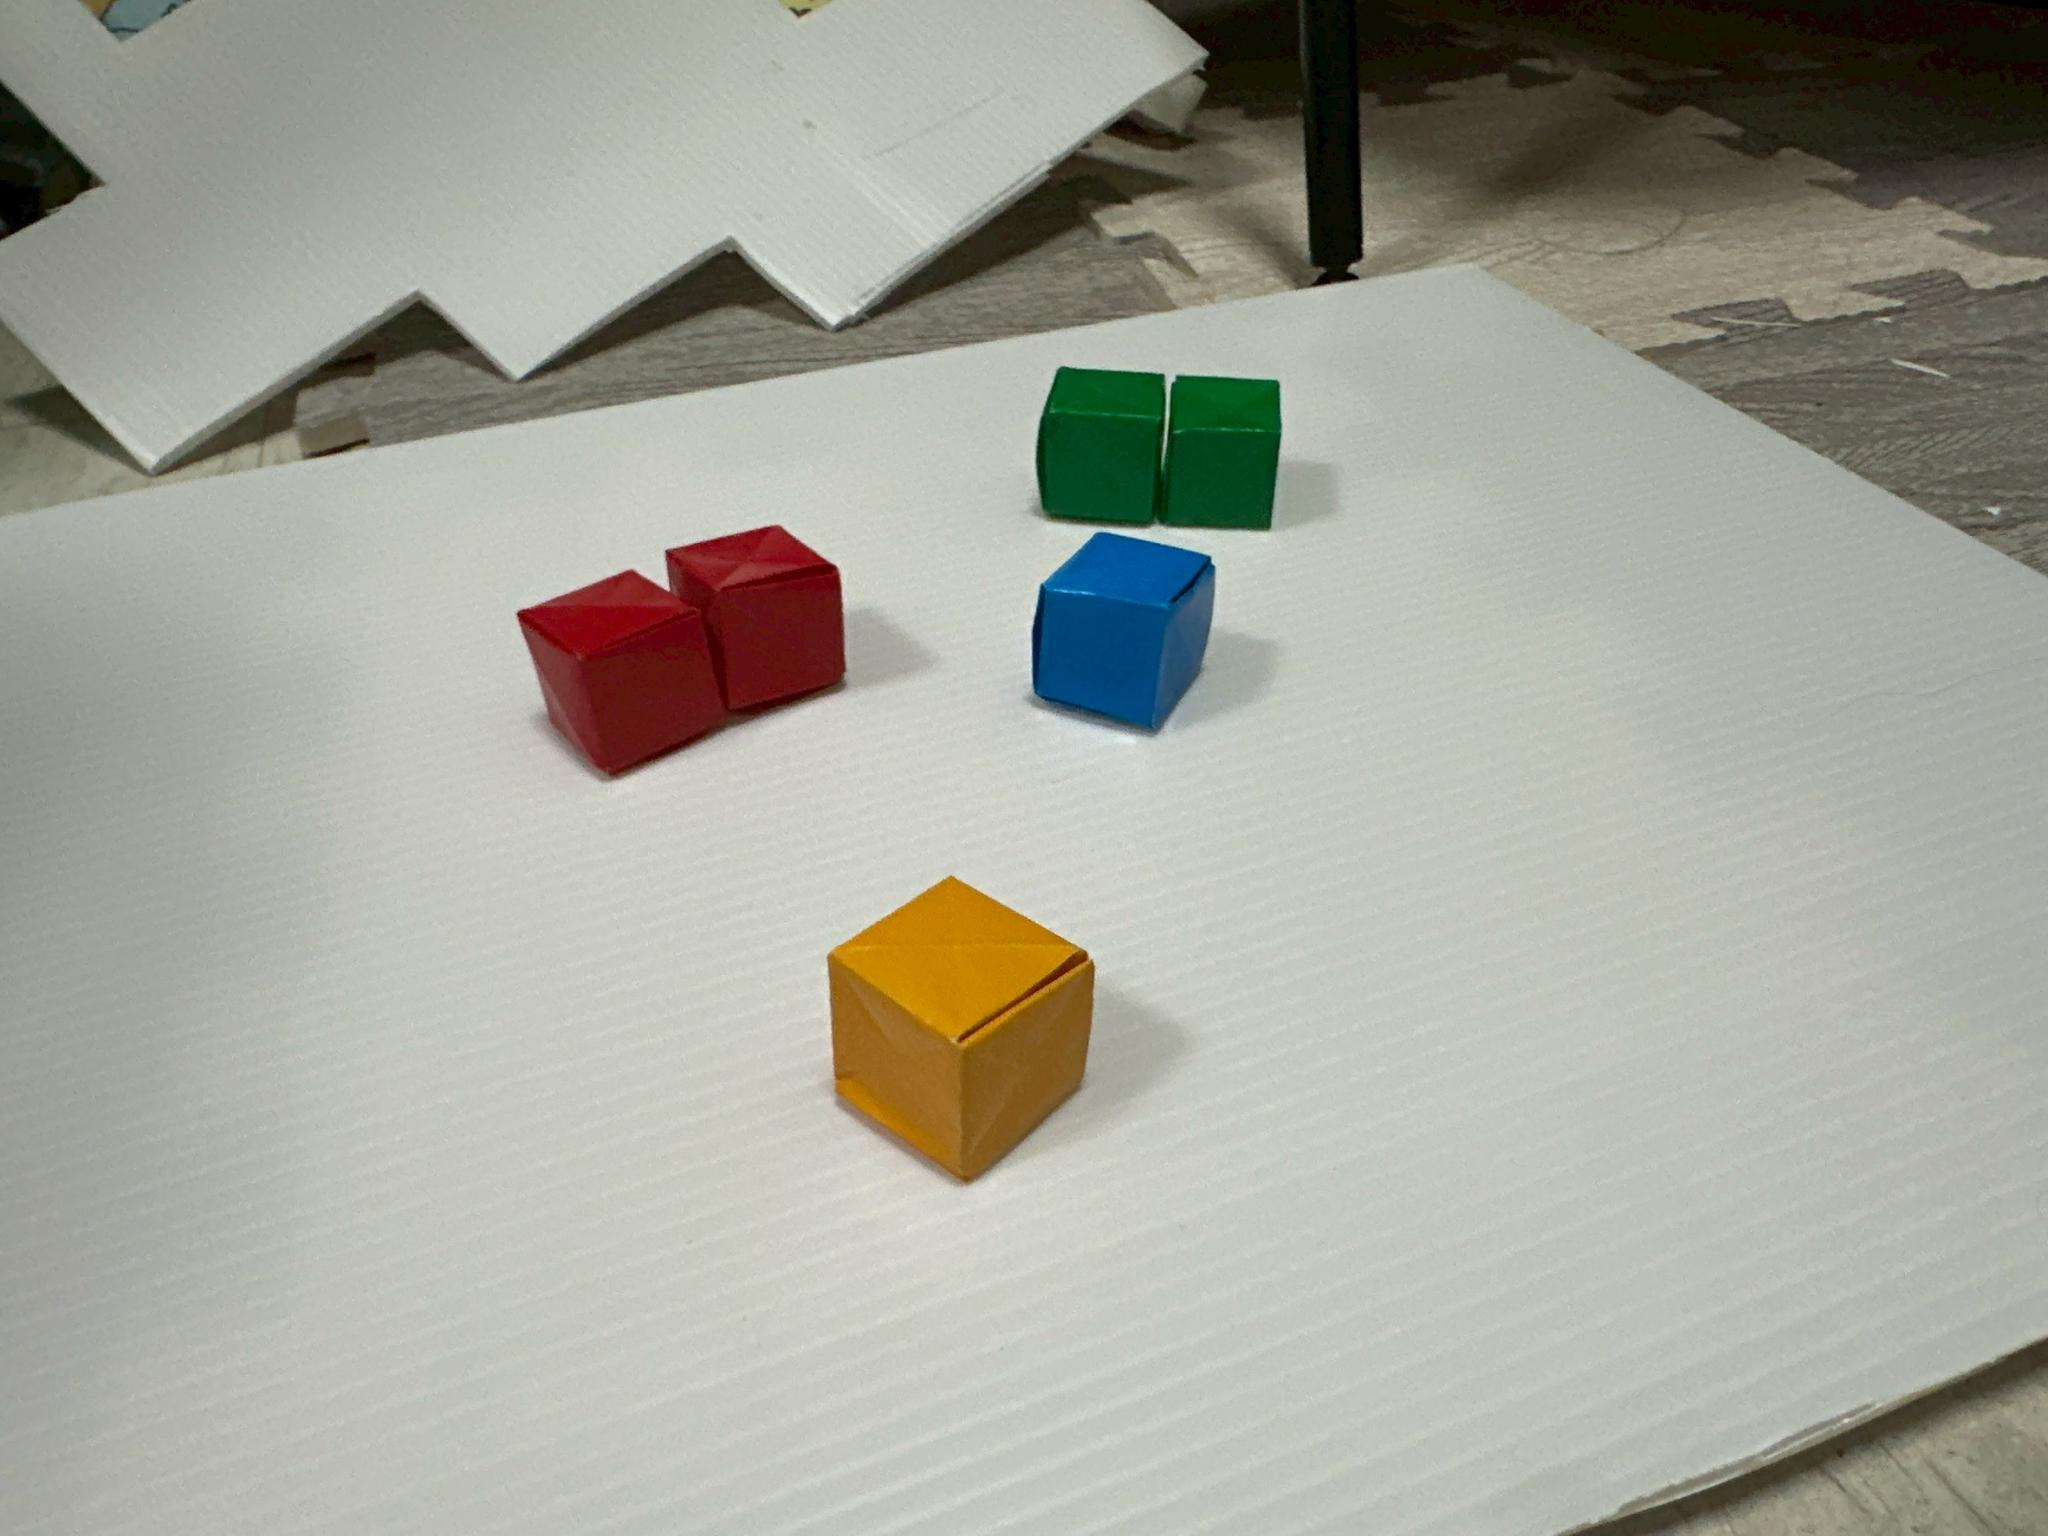cube: (829, 878, 1092, 1181), (518, 571, 727, 776), (1032, 532, 1214, 731), (668, 526, 845, 712), (1037, 368, 1163, 524), (1161, 376, 1279, 529)
